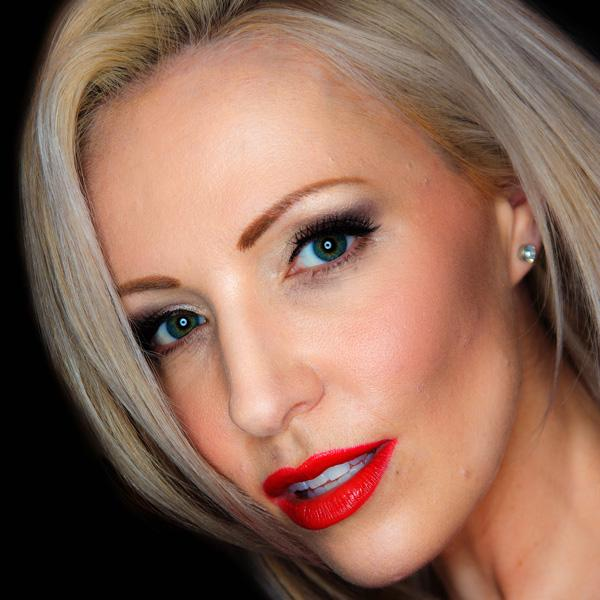Eyes: (275, 198, 378, 292), (129, 292, 221, 368)
